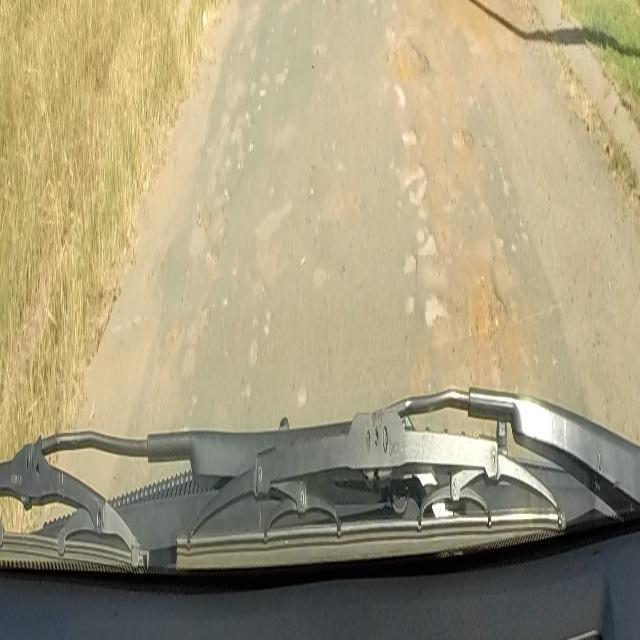pothole: (466, 263, 508, 353), (385, 24, 429, 96)
